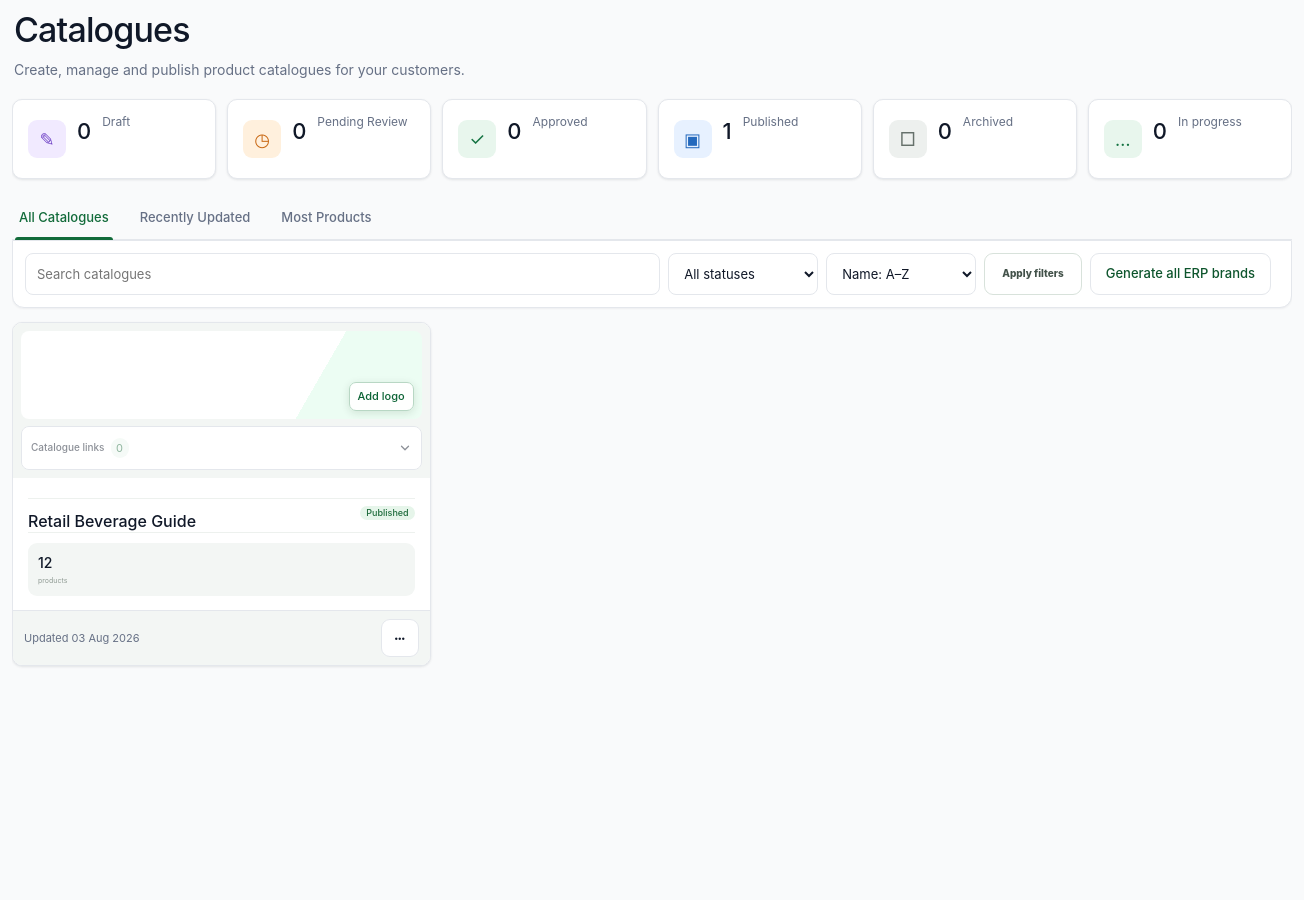
CatalogueManagement preview action › confirms unpublishing and updates the card without revoking its links
The width and height of the screenshot is (1304, 900).
Click the button named "More catalogue actions" at (400, 638), box top-left (381, 619), bottom-right (419, 657)
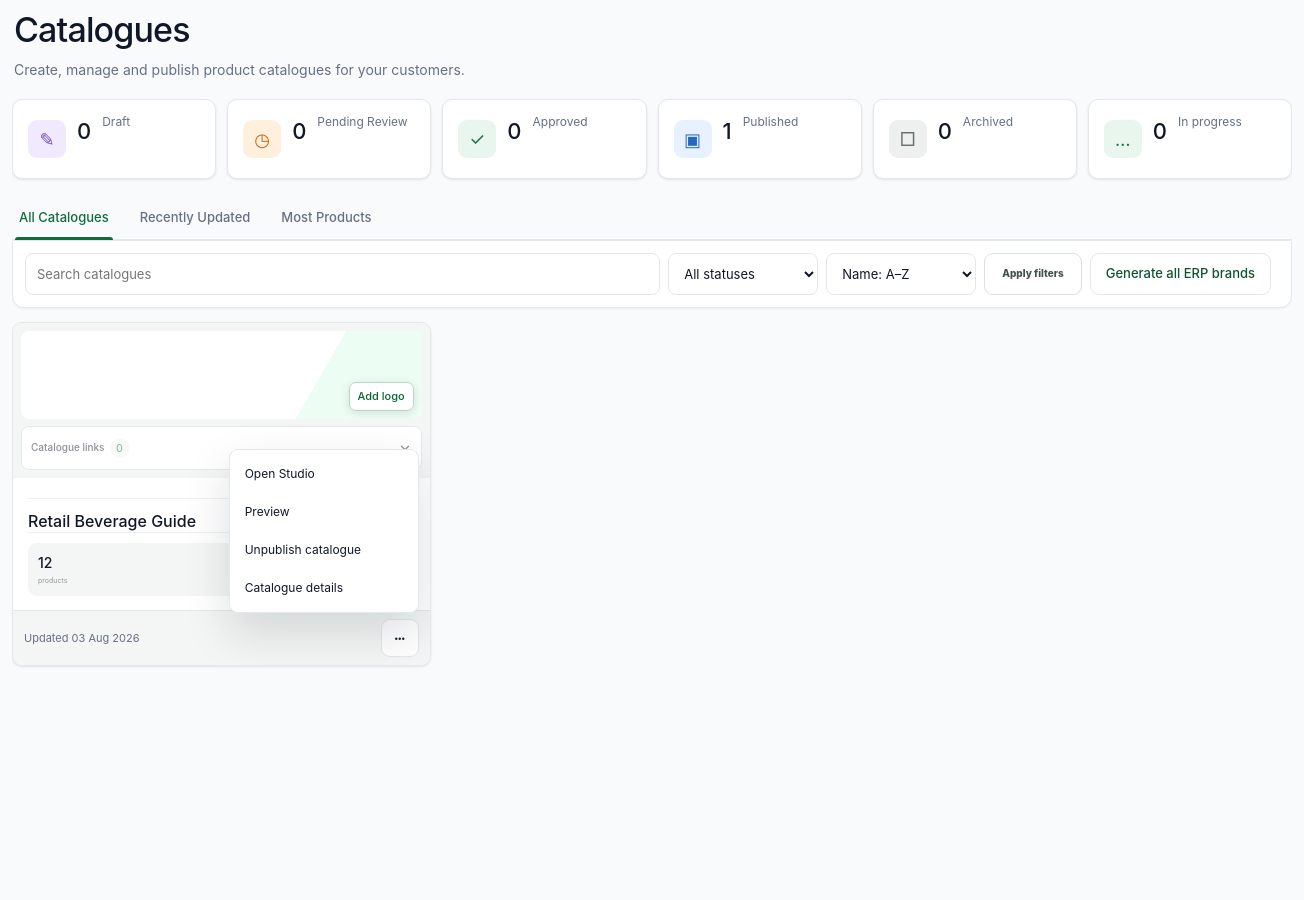
Click the menu item "Unpublish catalogue" at (324, 550), box top-left (235, 531), bottom-right (413, 569)
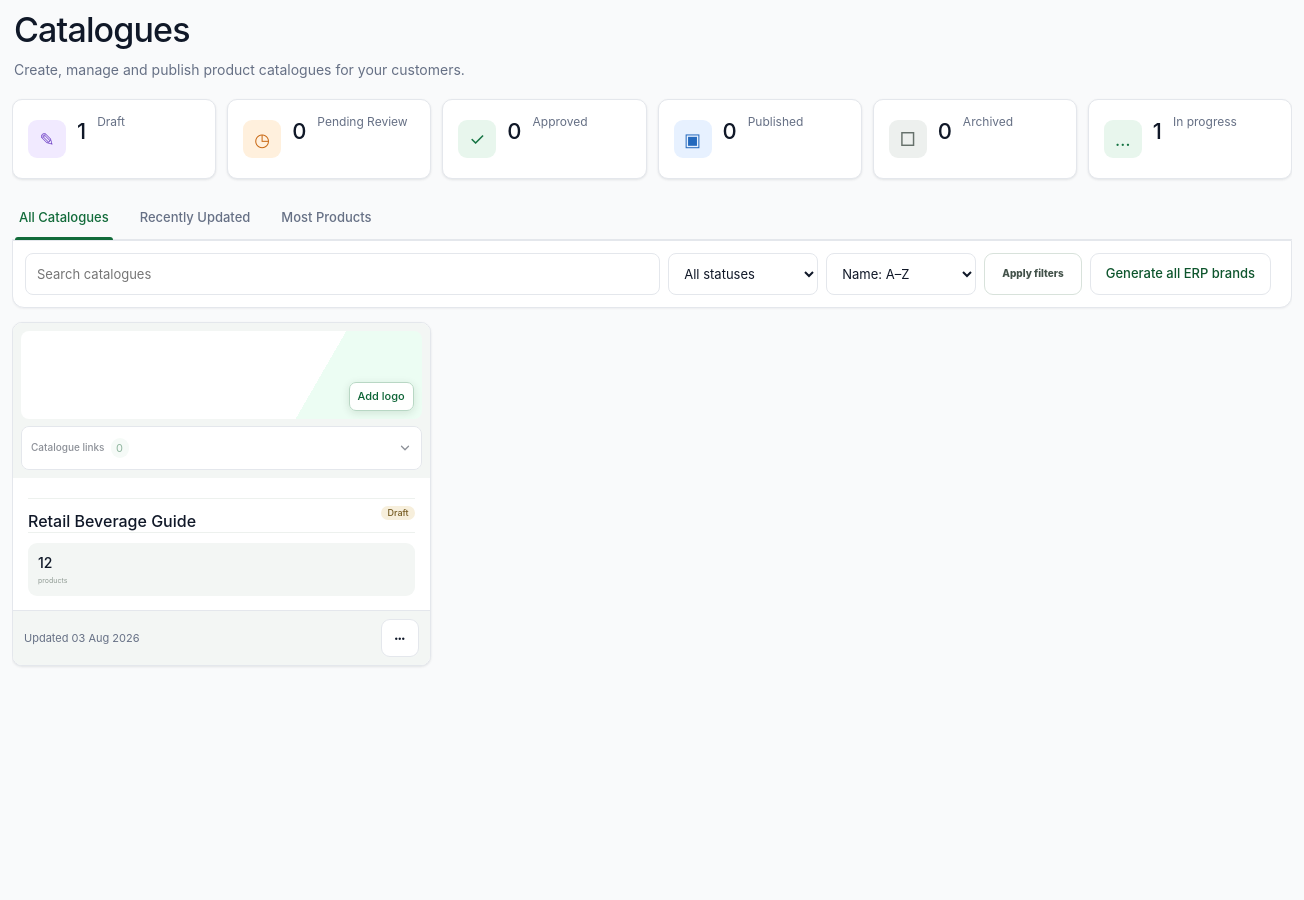
Expected: the text "Draft" in the row of "Retail Beverage Guide" is shown, top-left (388, 507), bottom-right (409, 518)
